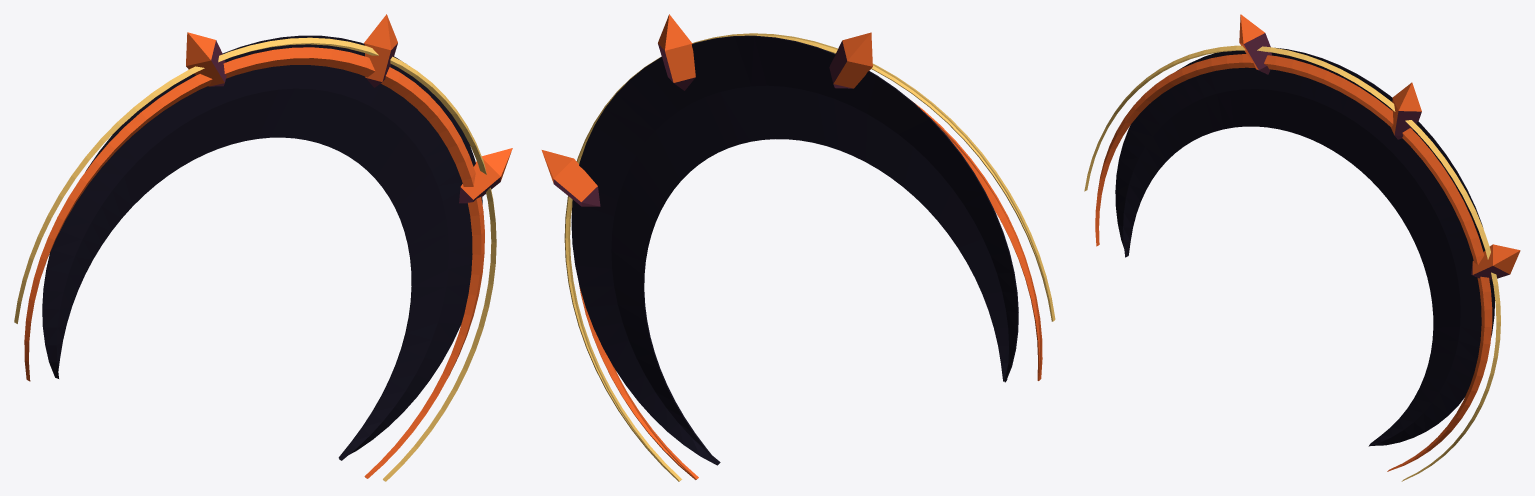
File: VFX_54_EclissiLamaApocalisse.fbx
The picture shows the model from 3 angles, left to right: view 1: azimuth 30°, elevation 25°; view 2: azimuth 150°, elevation 25°; view 3: azimuth 330°, elevation 25°; orthographic projection. The views are drawn at different scales.
Parts seen in each view (by area): view 1: VFX_54_EclissiLamaApocalisse; view 2: VFX_54_EclissiLamaApocalisse; view 3: VFX_54_EclissiLamaApocalisse.
Boxes of the visible parts, x1,y1,x2,y2 form: VFX_54_EclissiLamaApocalisse: (14, 14, 512, 481); VFX_54_EclissiLamaApocalisse: (541, 14, 1055, 481); VFX_54_EclissiLamaApocalisse: (1084, 14, 1520, 481).
Size of the model in its own units: 384 by 360 by 26.88.
1 material, 1 textured.
